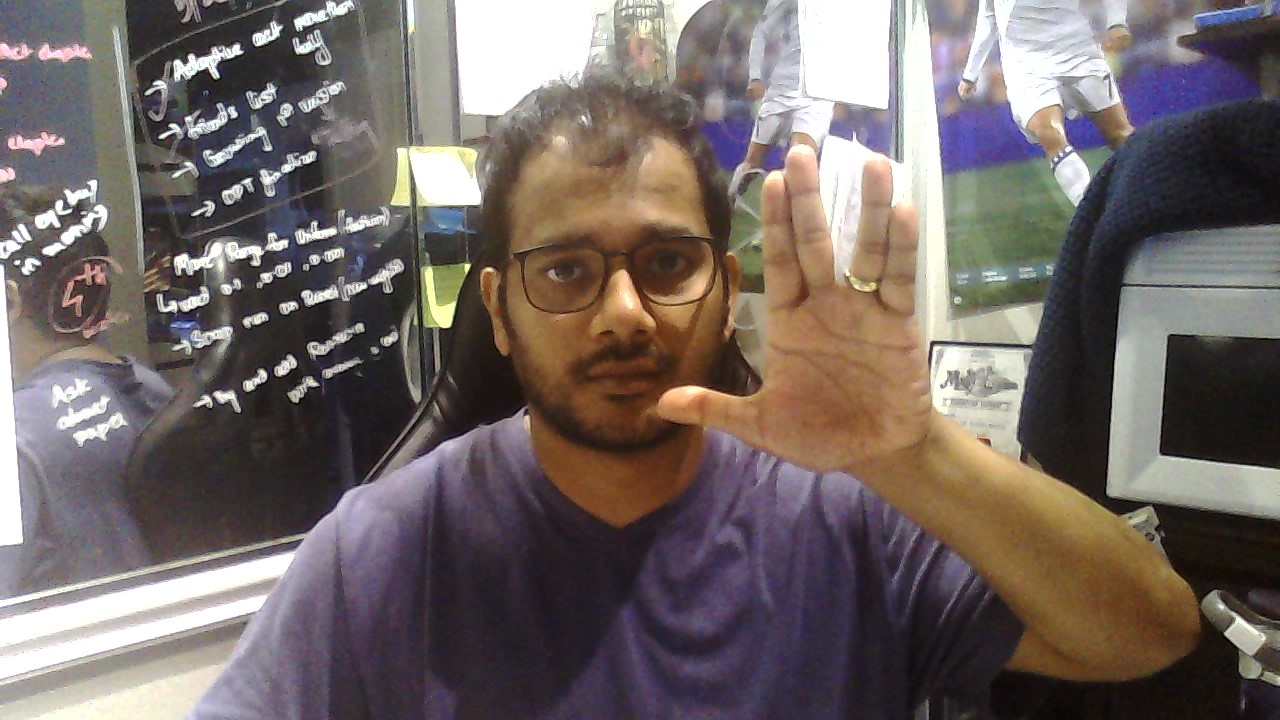LiveLong: (657, 144, 933, 471)
